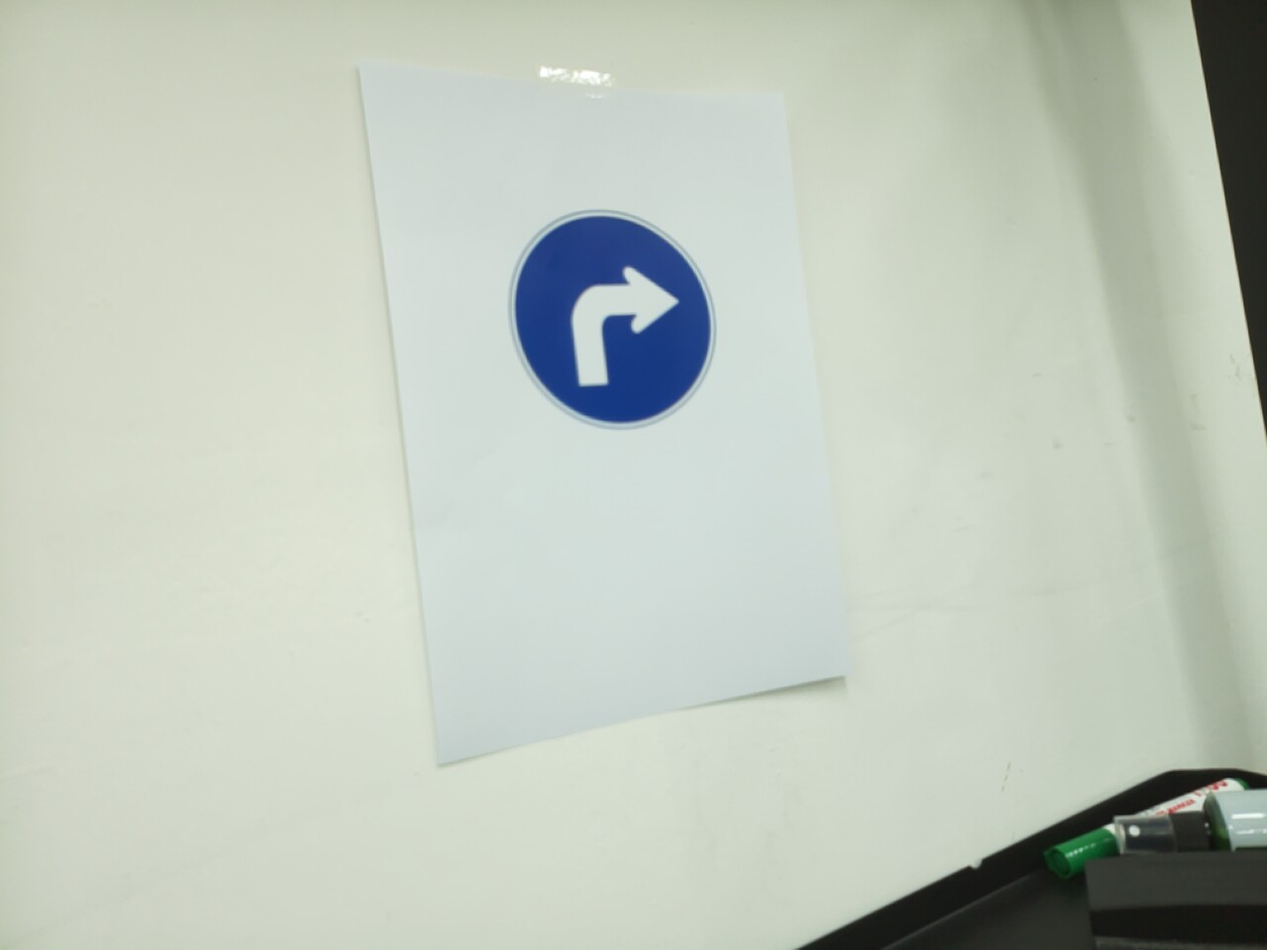right_turn: (507, 208, 719, 431)
